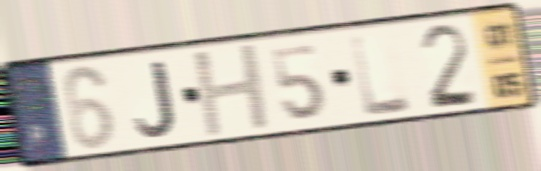2: (417, 21, 479, 112)
5: (267, 41, 328, 123)
6: (59, 61, 122, 152)
H: (189, 40, 275, 141)
J: (132, 58, 179, 139)
L: (347, 30, 415, 120)
